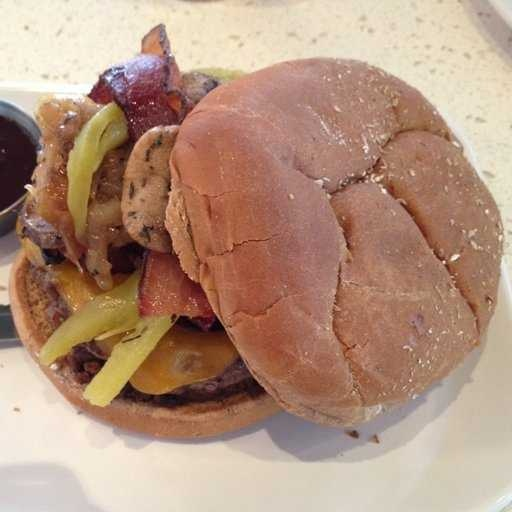hamburger: (17, 34, 476, 450)
